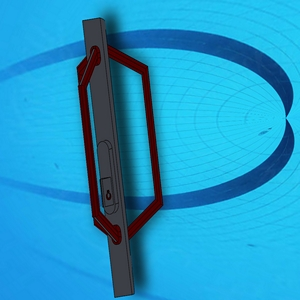submarine: (71, 18, 163, 296)
